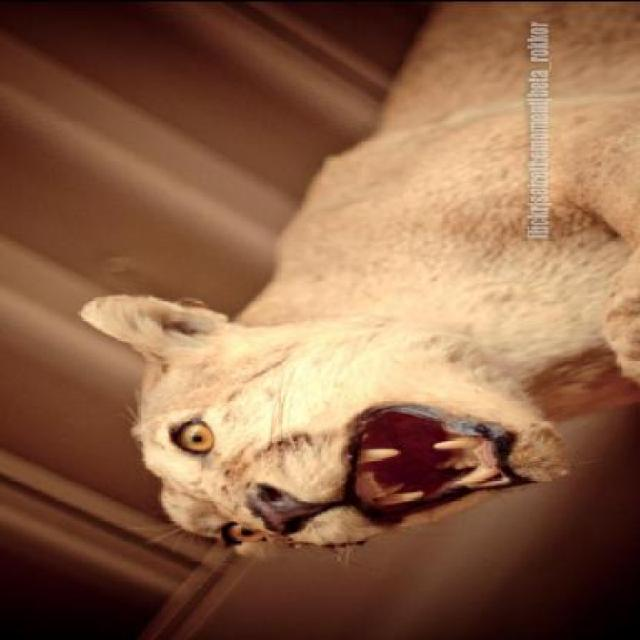Lion: (63, 0, 639, 566)
